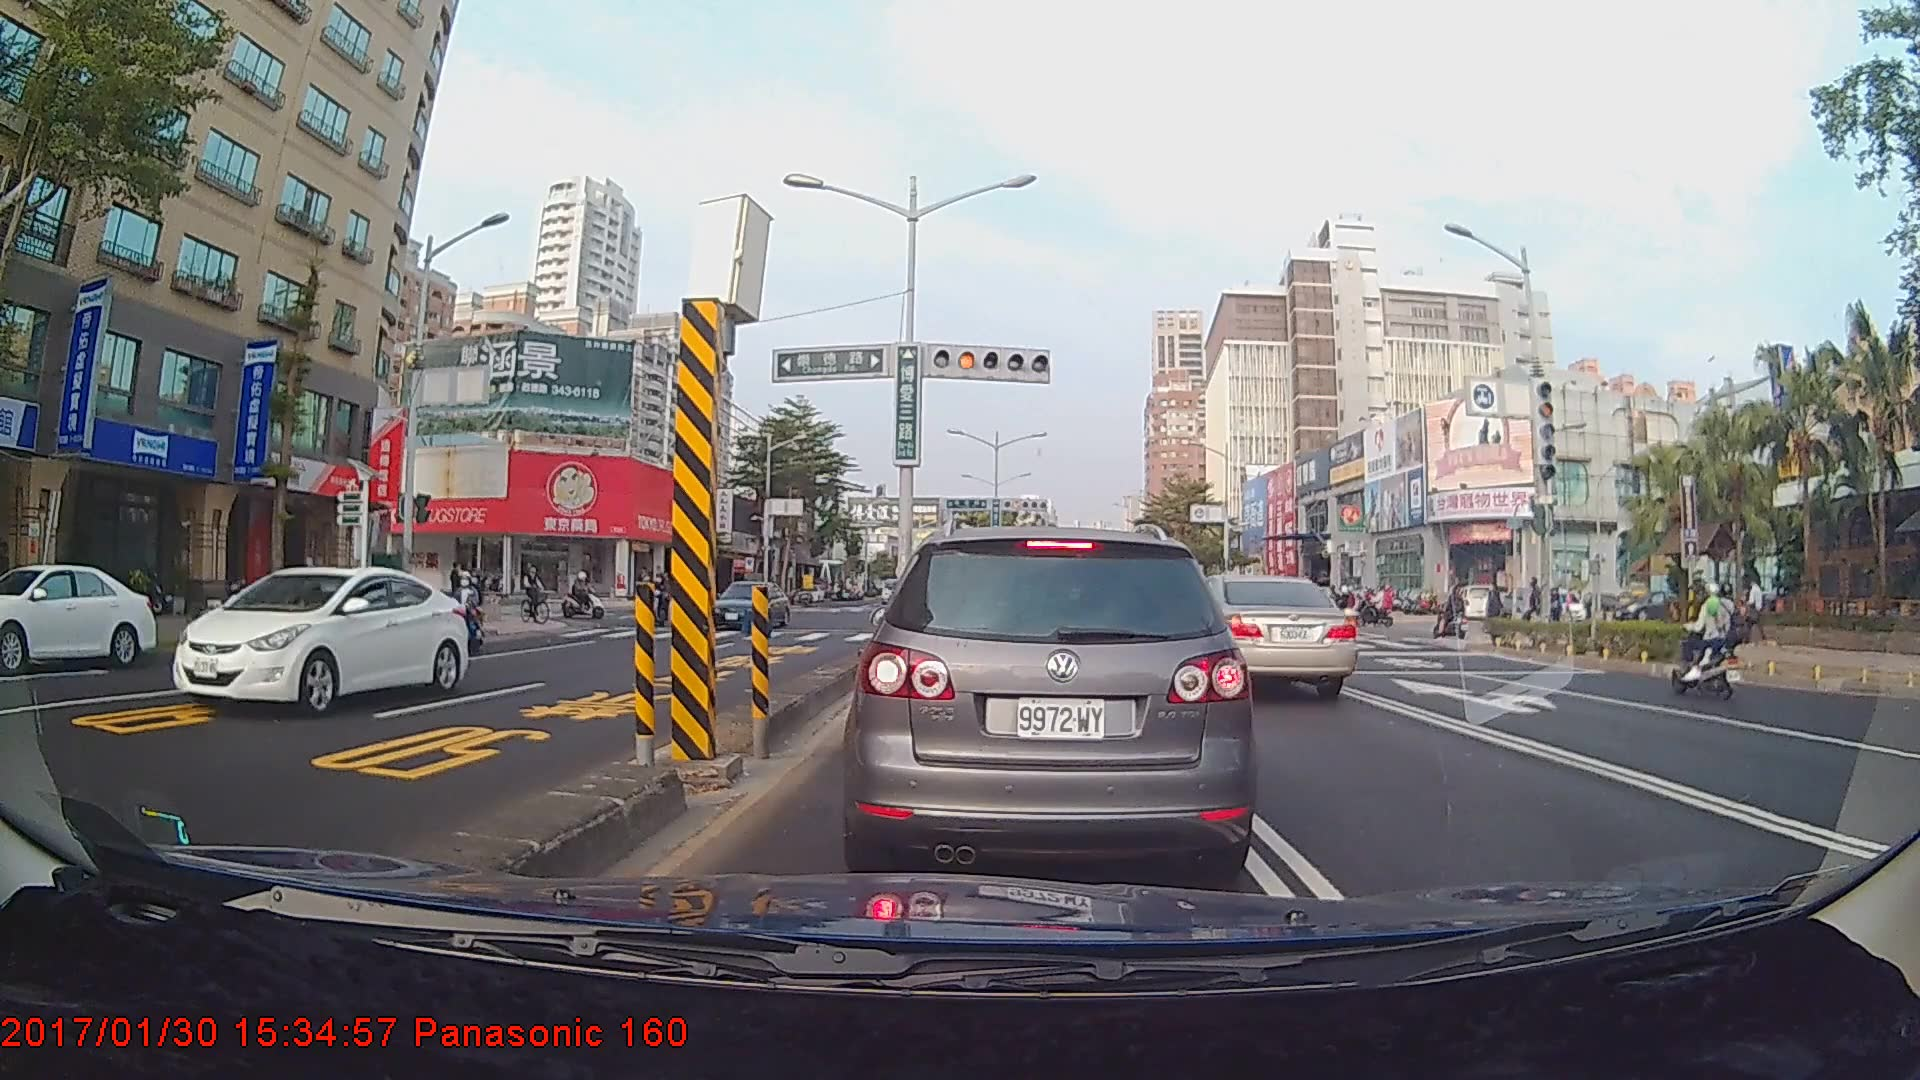pedestrian: (1743, 576, 1769, 644), (1484, 579, 1508, 637), (448, 558, 468, 621)
rider: (1662, 580, 1751, 701), (446, 568, 491, 656), (561, 568, 613, 625), (518, 559, 553, 629), (1436, 582, 1473, 646)
vehicle: (852, 521, 1249, 883), (169, 563, 468, 716), (1168, 572, 1358, 701), (0, 561, 159, 671), (706, 580, 790, 631)
